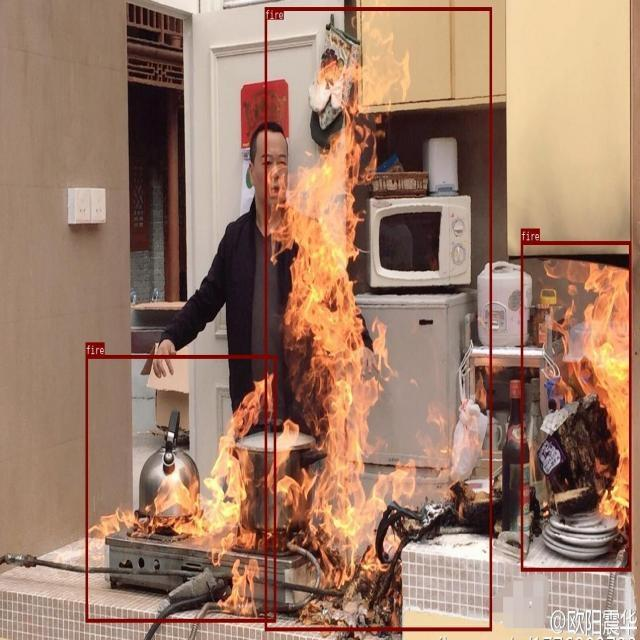fire: (265, 7, 491, 630), (85, 355, 276, 622), (520, 241, 631, 570)
